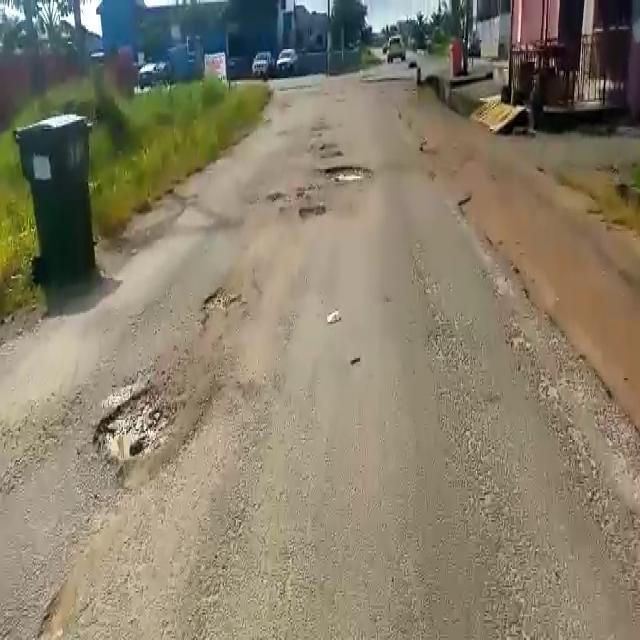pothole: (91, 382, 176, 467), (200, 282, 252, 319), (323, 162, 374, 181), (292, 202, 327, 222)
